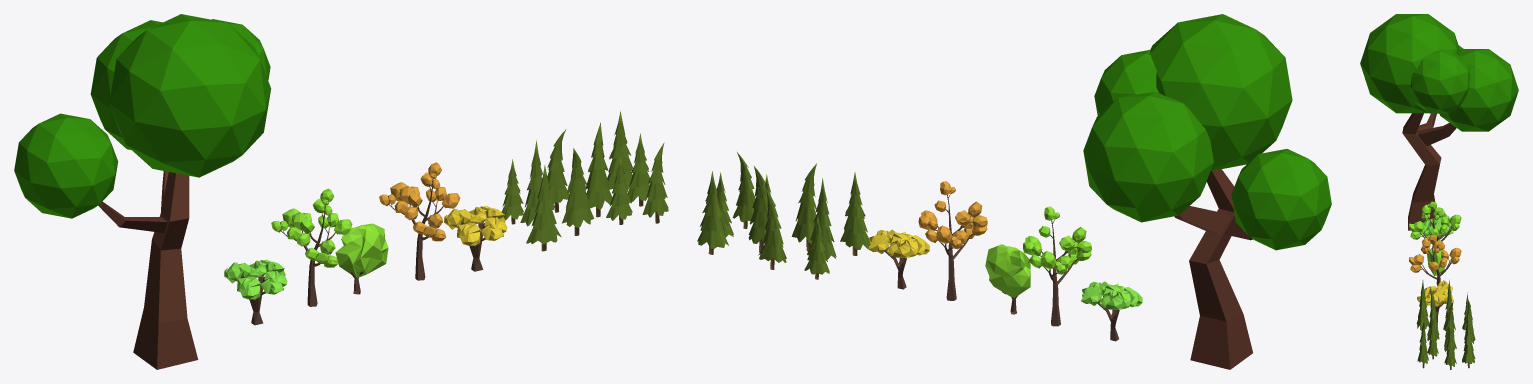
Rendered from All Faeghal trees.fbx.
3 renders of one model, left to right at view 1: azimuth 30°, elevation 25°; view 2: azimuth 150°, elevation 25°; view 3: azimuth 270°, elevation 25°, orthographic. The views are drawn at different scales.
Parts seen in each view (by area): view 1: Icosphere.003, Resource_PineTree_Group_Cylinder.015, Cube_Cube.001, Fall_Tree.001, Fall_Tree, Tree_model, tree_1_model.001, tree_1_model; view 2: Icosphere.003, Resource_PineTree_Group_Cylinder.015, Cube_Cube.001, Fall_Tree.001, Fall_Tree, Tree_model, tree_1_model.001, tree_1_model; view 3: Icosphere.003, Cube_Cube.001, Resource_PineTree_Group_Cylinder.015, Fall_Tree.001, Fall_Tree, tree_1_model, tree_1_model.001, Tree_model.
Part boxes in pixels (left/top/right/bottom): Icosphere.003: left=14, top=14, right=271, bottom=218; Resource_PineTree_Group_Cylinder.015: left=501, top=111, right=668, bottom=251; Cube_Cube.001: left=98, top=171, right=198, bottom=369; Fall_Tree.001: left=379, top=162, right=460, bottom=280; Fall_Tree: left=271, top=188, right=352, bottom=306; Tree_model: left=335, top=223, right=388, bottom=294; tree_1_model.001: left=224, top=259, right=287, bottom=325; tree_1_model: left=444, top=206, right=507, bottom=271; Icosphere.003: left=1083, top=14, right=1331, bottom=250; Resource_PineTree_Group_Cylinder.015: left=697, top=152, right=870, bottom=279; Cube_Cube.001: left=1174, top=169, right=1252, bottom=369; Fall_Tree.001: left=918, top=181, right=987, bottom=300; Fall_Tree: left=1023, top=206, right=1091, bottom=326; Tree_model: left=985, top=244, right=1030, bottom=314; tree_1_model.001: left=1081, top=281, right=1142, bottom=341; tree_1_model: left=868, top=229, right=929, bottom=289; Icosphere.003: left=1360, top=14, right=1518, bottom=131; Cube_Cube.001: left=1402, top=113, right=1456, bottom=230; Resource_PineTree_Group_Cylinder.015: left=1416, top=279, right=1475, bottom=369; Fall_Tree.001: left=1409, top=234, right=1461, bottom=286; Fall_Tree: left=1409, top=201, right=1461, bottom=244; tree_1_model: left=1417, top=280, right=1453, bottom=322; tree_1_model.001: left=1419, top=213, right=1453, bottom=243; Tree_model: left=1427, top=239, right=1444, bottom=284.
Bounding box in the file's own units: 1914 × 973 × 658.
